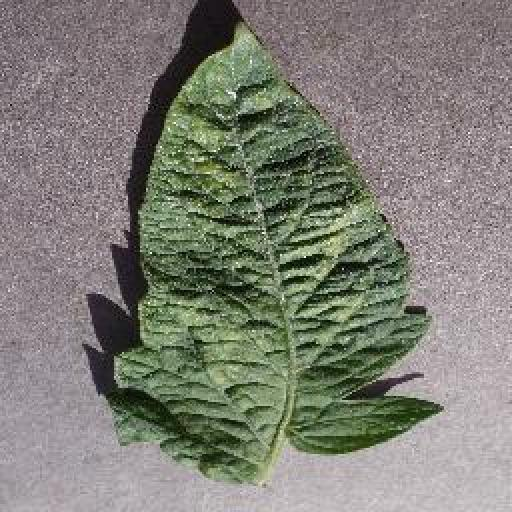Spider Mites: (100, 17, 440, 480)
